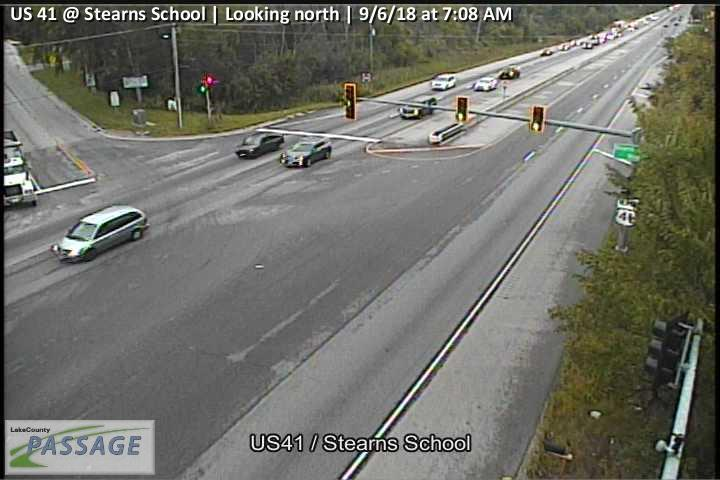SUV: (51, 203, 151, 265), (278, 135, 333, 169), (232, 129, 283, 159), (399, 94, 437, 122), (429, 72, 457, 90), (499, 65, 521, 80)
Sedan: (472, 76, 499, 92), (539, 48, 553, 57), (559, 42, 570, 51), (582, 42, 592, 50)
Truck: (3, 127, 38, 210)
